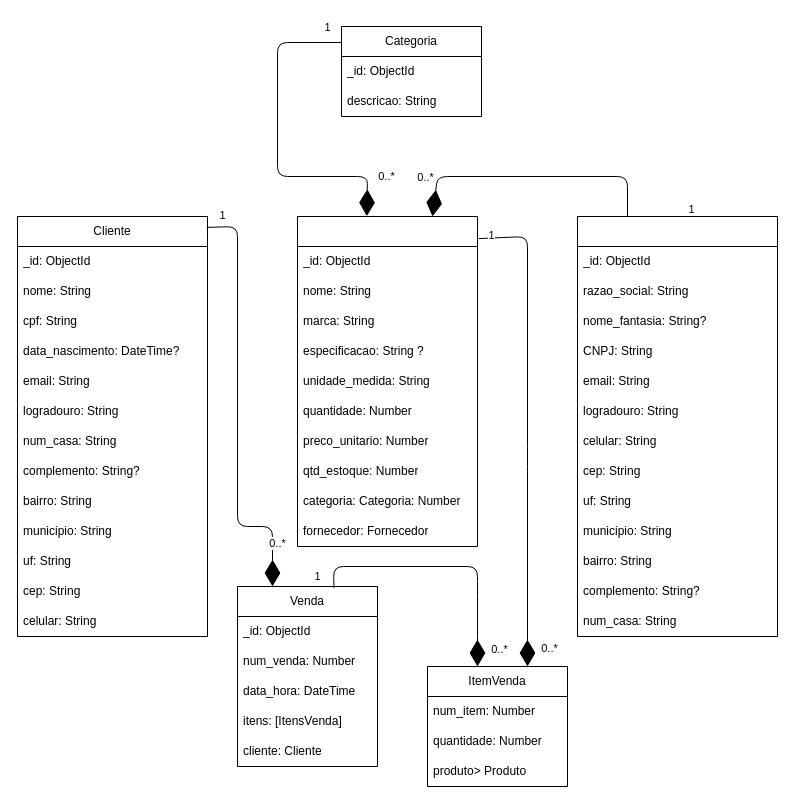
Image size: 795x804. Some labels were removed from this diagram. Here are the shapes that lost their labels. From the top down, the box of each, then its label:
(296, 216, 478, 546): Produto
(576, 216, 778, 636): Fornecedor
